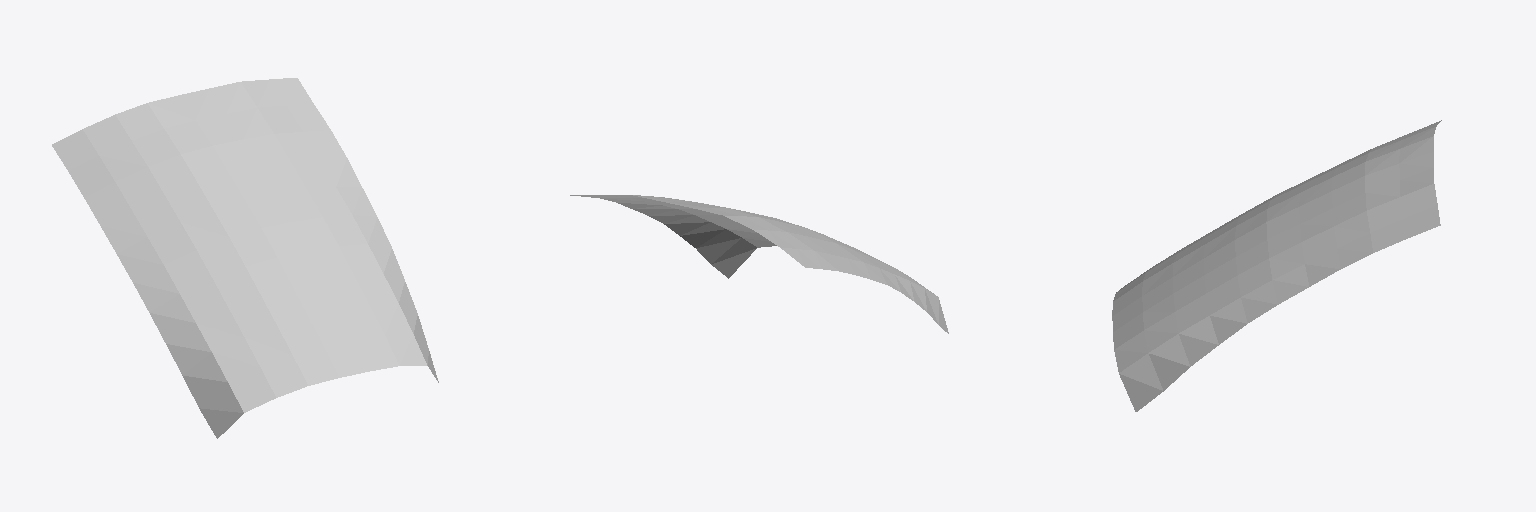
File: status_left.obj
3 renders of one model, left to right at view 1: azimuth 30°, elevation 25°; view 2: azimuth 150°, elevation 25°; view 3: azimuth 270°, elevation 25°, orthographic.
Visible parts, largest first — view 1: status; view 2: status; view 3: status.
Part boxes in pixels (x1,y1,x2,y2): status: (52, 78, 438, 438); status: (570, 195, 948, 333); status: (1112, 120, 1441, 411).
Bounding box in the file's own units: 0.0219 × 0.018 × 0.0261.